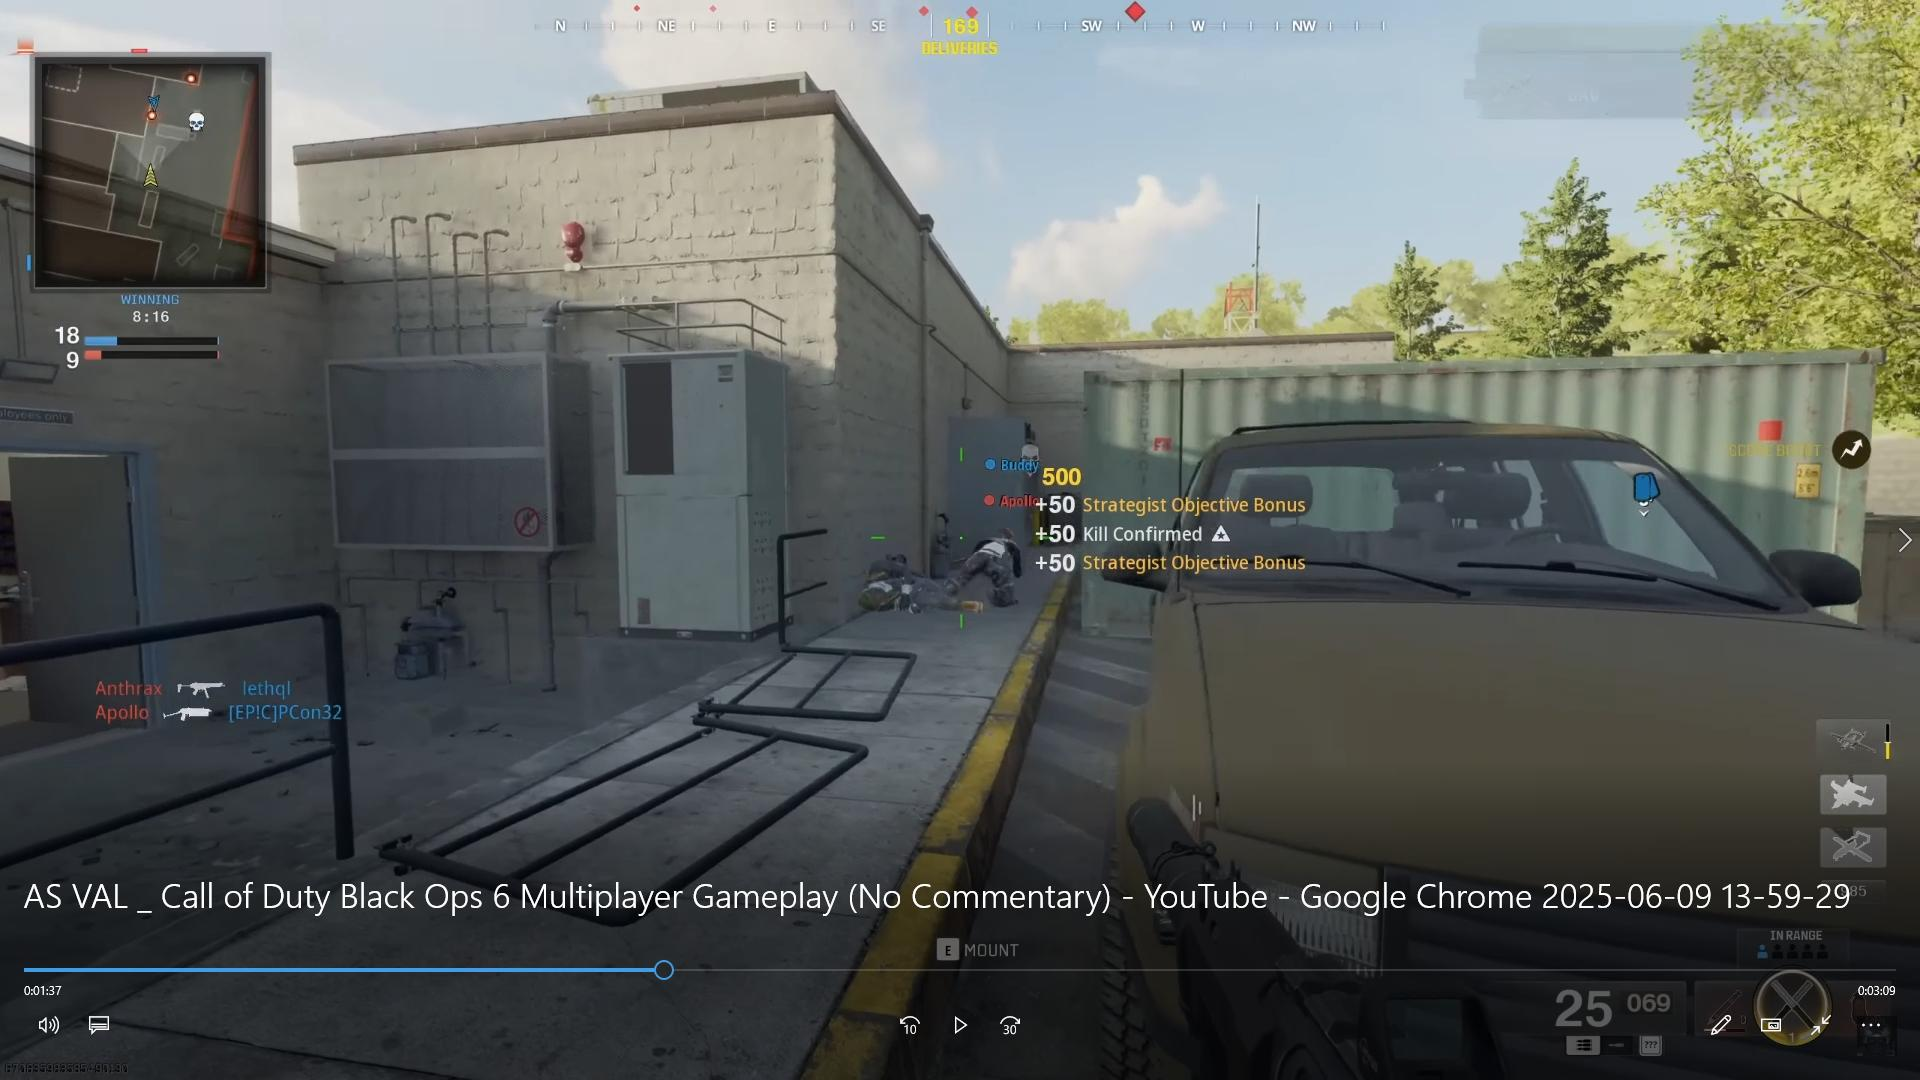Enemy: (945, 524, 1038, 585)
